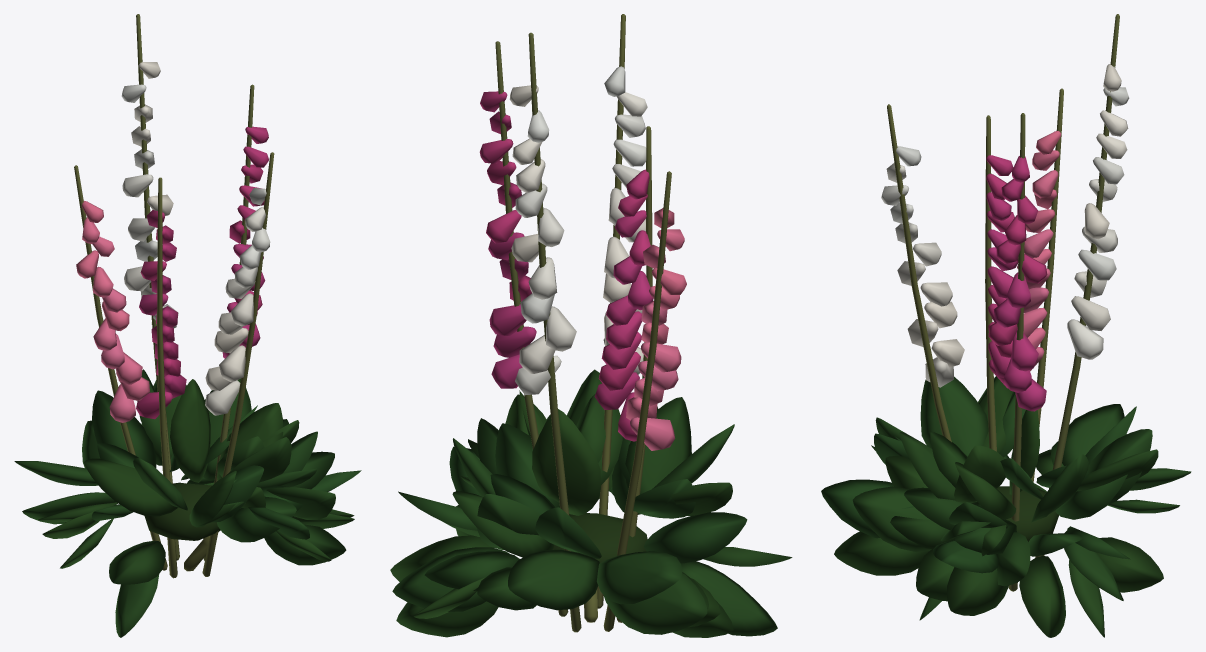
Rendered from bed_foxglove.glb.
3 views of the same model, side by side, from view 1: azimuth 30°, elevation 25°; view 2: azimuth 150°, elevation 25°; view 3: azimuth 270°, elevation 25° (orthographic). The views are drawn at different scales.
Parts seen in each view (by area): view 1: Sammel Pflanze, Sammel Putz, Sammel Blatt; view 2: Sammel Pflanze, Sammel Putz, Sammel Blatt; view 3: Sammel Pflanze, Sammel Putz, Sammel Blatt.
Boxes of the visible parts, bbox=[...] form: Sammel Pflanze: bbox=[14, 62, 361, 637]; Sammel Putz: bbox=[74, 14, 274, 578]; Sammel Blatt: bbox=[144, 482, 220, 540]; Sammel Pflanze: bbox=[390, 66, 792, 637]; Sammel Putz: bbox=[495, 14, 671, 632]; Sammel Blatt: bbox=[552, 513, 647, 562]; Sammel Pflanze: bbox=[821, 64, 1191, 637]; Sammel Putz: bbox=[887, 14, 1119, 591]; Sammel Blatt: bbox=[997, 486, 1058, 541].
Size of the model in its own units: 0.5208 by 0.9495 by 0.5527.
